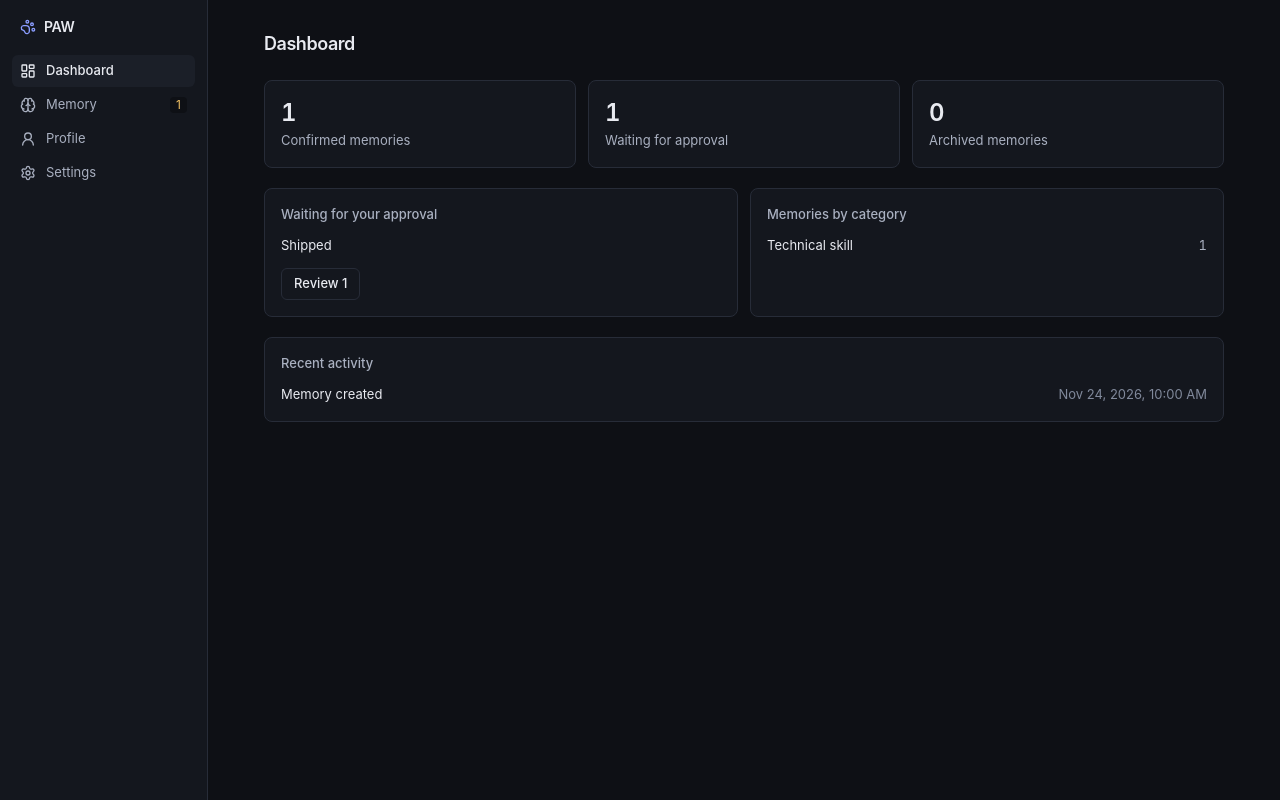
proposals › warns about duplicates
Click the button "Memory 1". click: (104, 105)
box: [12,89,195,121]
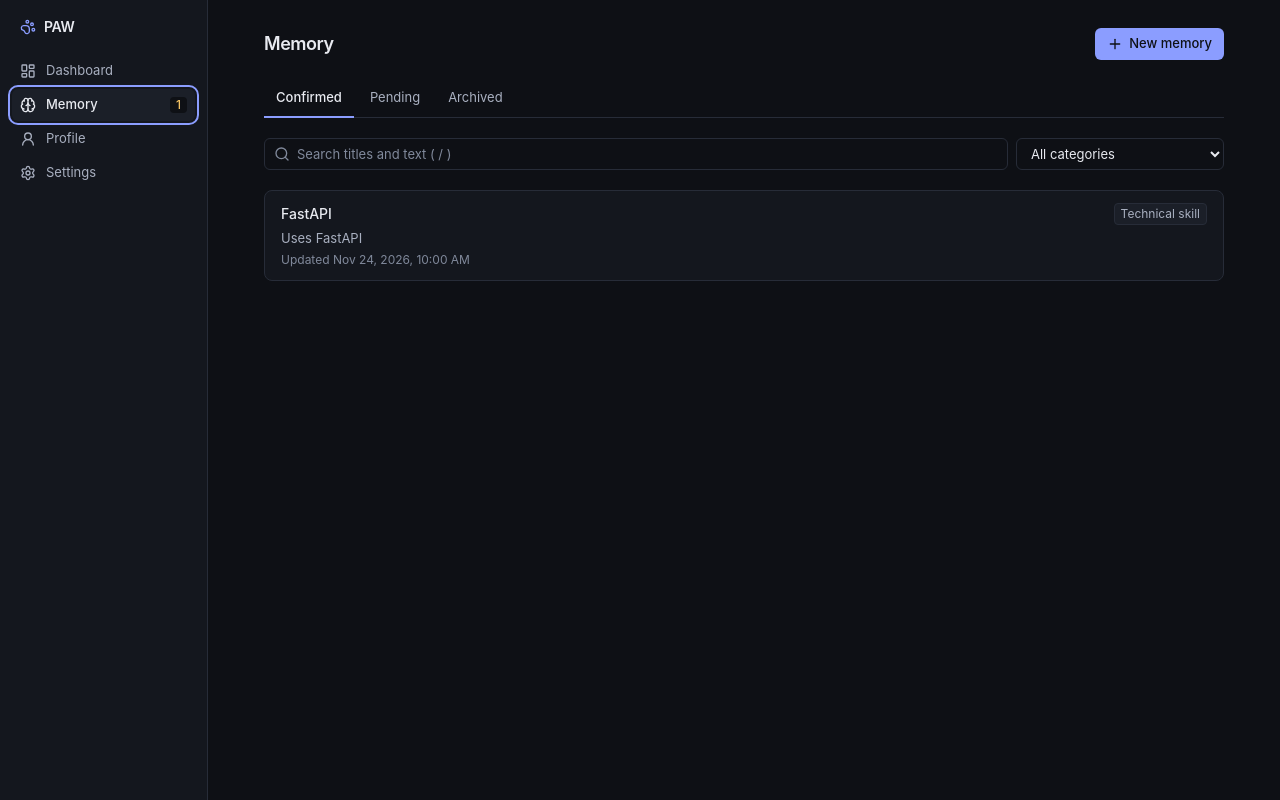
Click the tab "Pending". click: (395, 99)
box: [358,80,432,118]
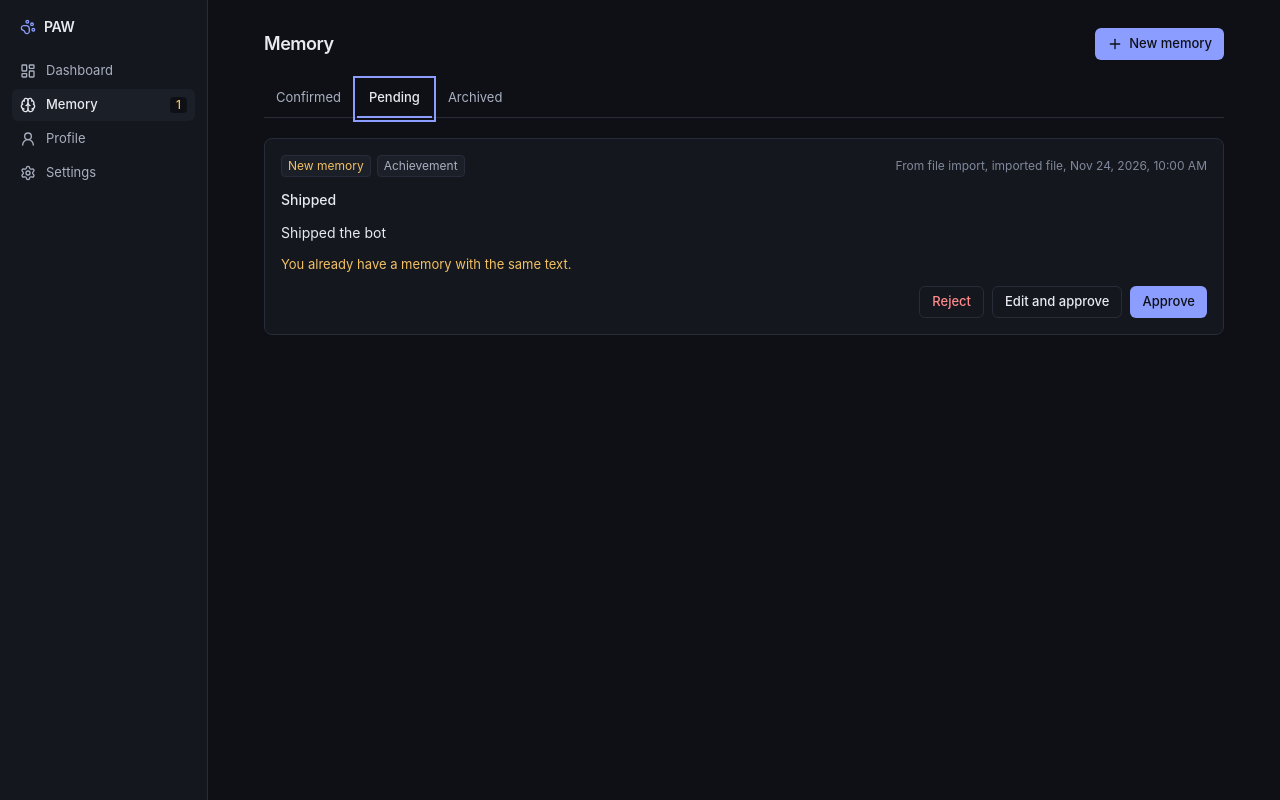
Result: the text "You already have a memory with the same text." is shown at [281,256,571,272]
